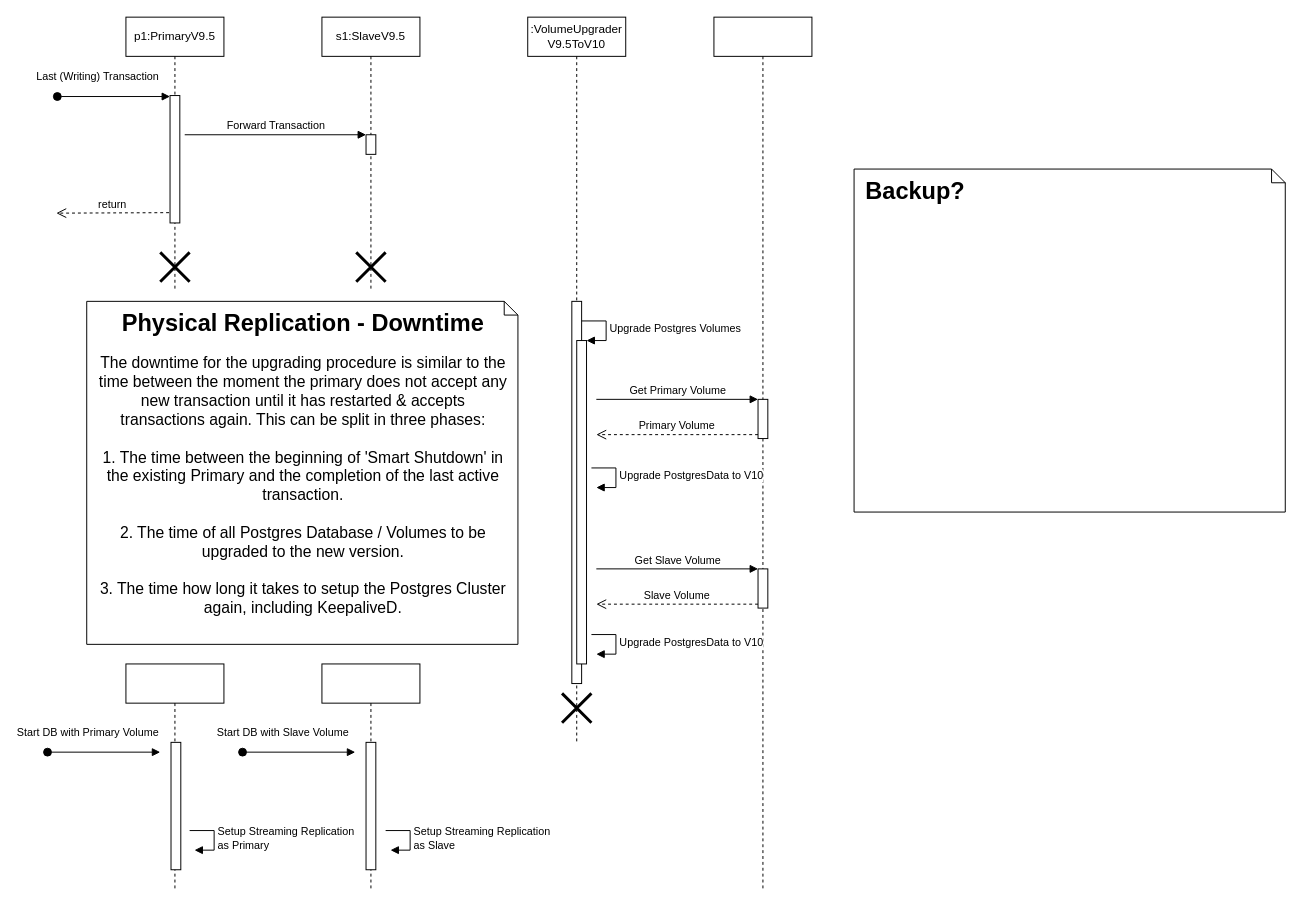
The diagram is 1302 pixels wide and 907 high, and some of its shapes have lost their labels. Here are the shapes that lost their labels. From the top down, the centre of each, then its label:
At point (762, 452): ":Docker".
At point (174, 776): "p1:PrimaryV10".
At point (370, 776): "s1:Slave10".
